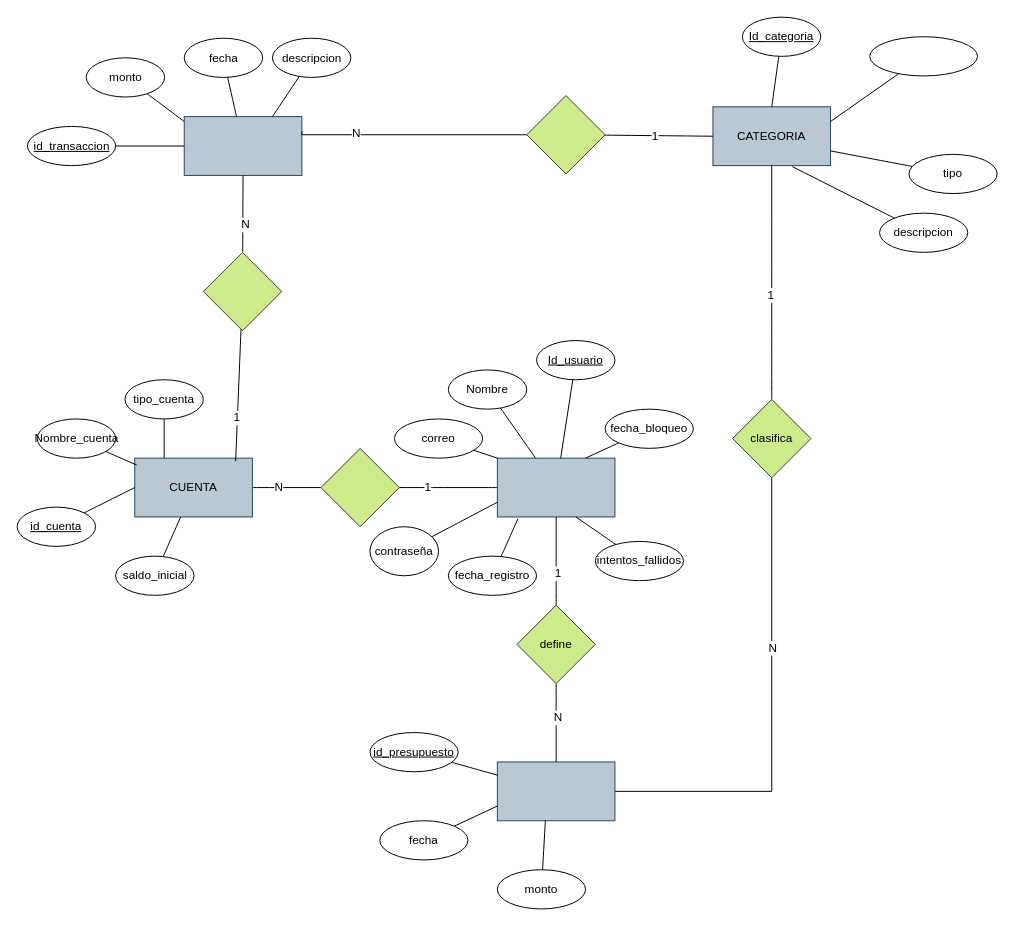
This 1014x926 diagram has some shape labels left out. The shapes that lost their labels are listed below. From the top down, each one's box as (x1, y1, x2, y2) in pixels, then its label:
(869, 36, 978, 76): nombre_categoria
(183, 116, 302, 175): TRANSACCION
(526, 95, 605, 174): pertenece
(202, 251, 282, 331): registra
(320, 447, 399, 527): posee
(496, 457, 615, 517): USUARIO
(496, 761, 615, 821): PRESUPUESTO
